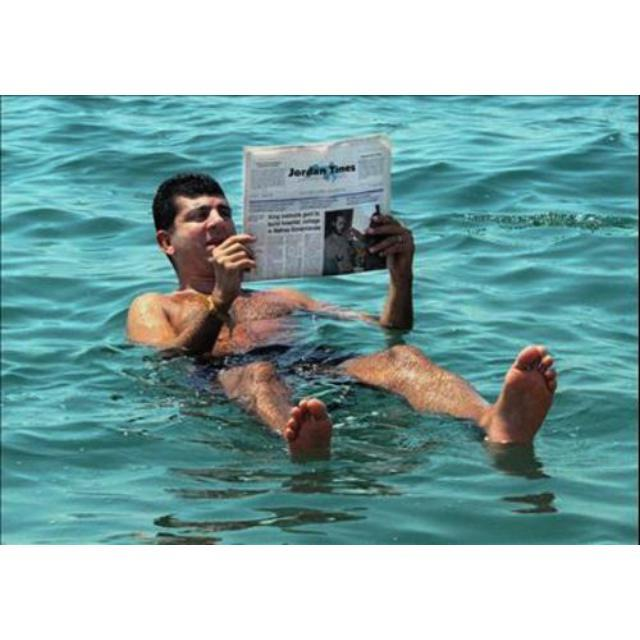human: (130, 168, 561, 479)
